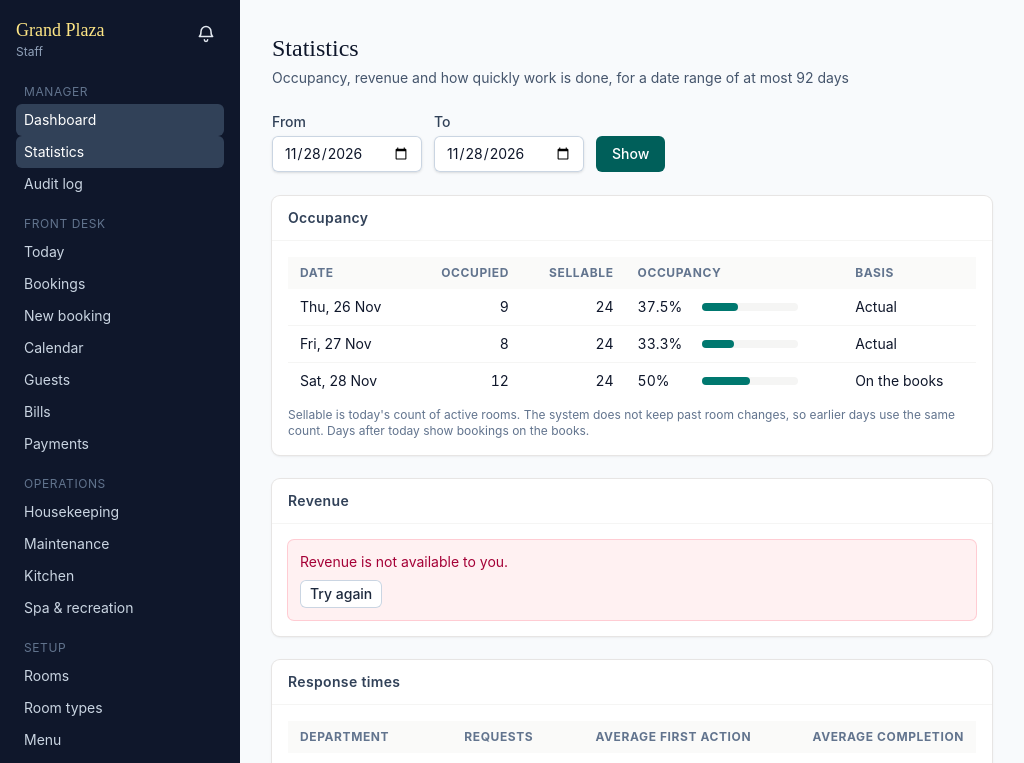
Test: the statistics page › keeps the other reports when one fails, and lets that one be retried
Expected: the message shows "Revenue is not available to you.", [300, 553, 508, 570]
Expected: the table named "Occupancy by day" is shown, [288, 257, 976, 399]
Click the button "Try again".
click(341, 594)  # box [300, 580, 382, 608]
(page scrolled)
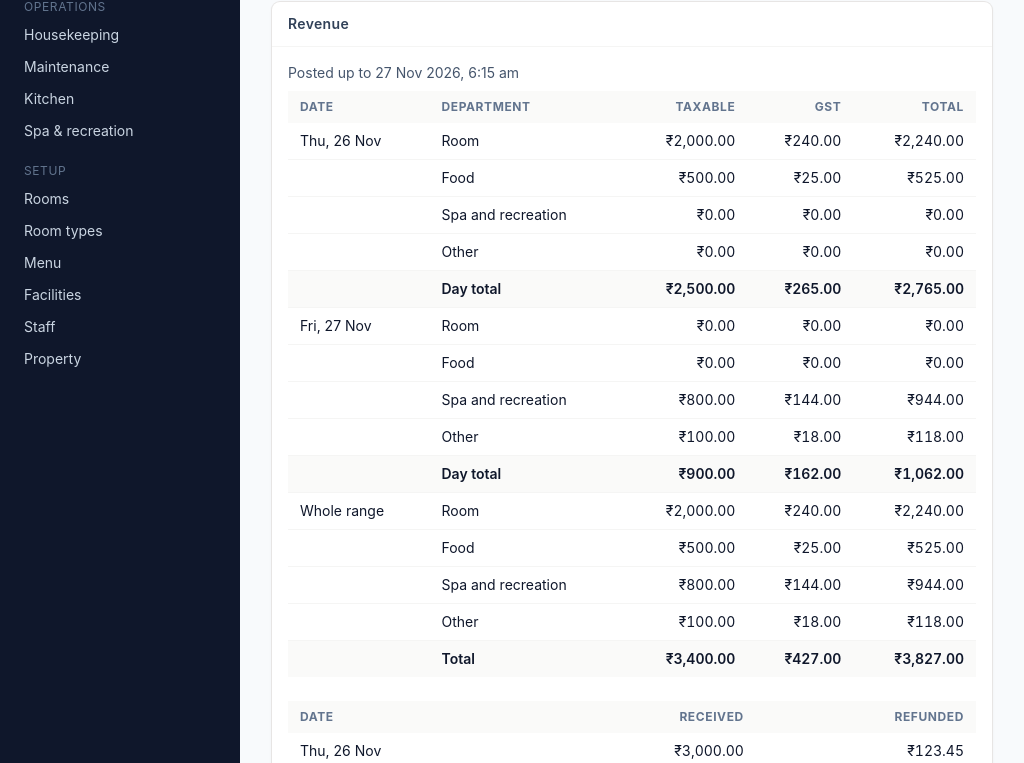
Result: the table named "Revenue by day and department" is shown at [288, 91, 976, 677]
